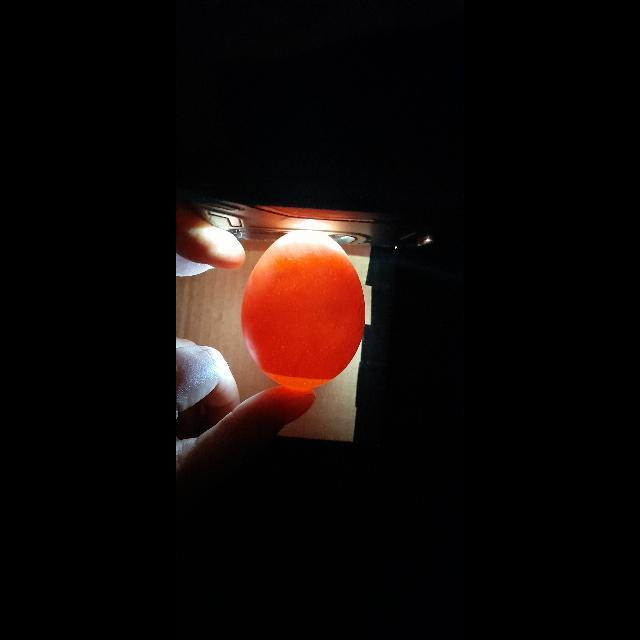Fertile: (244, 227, 364, 395)
